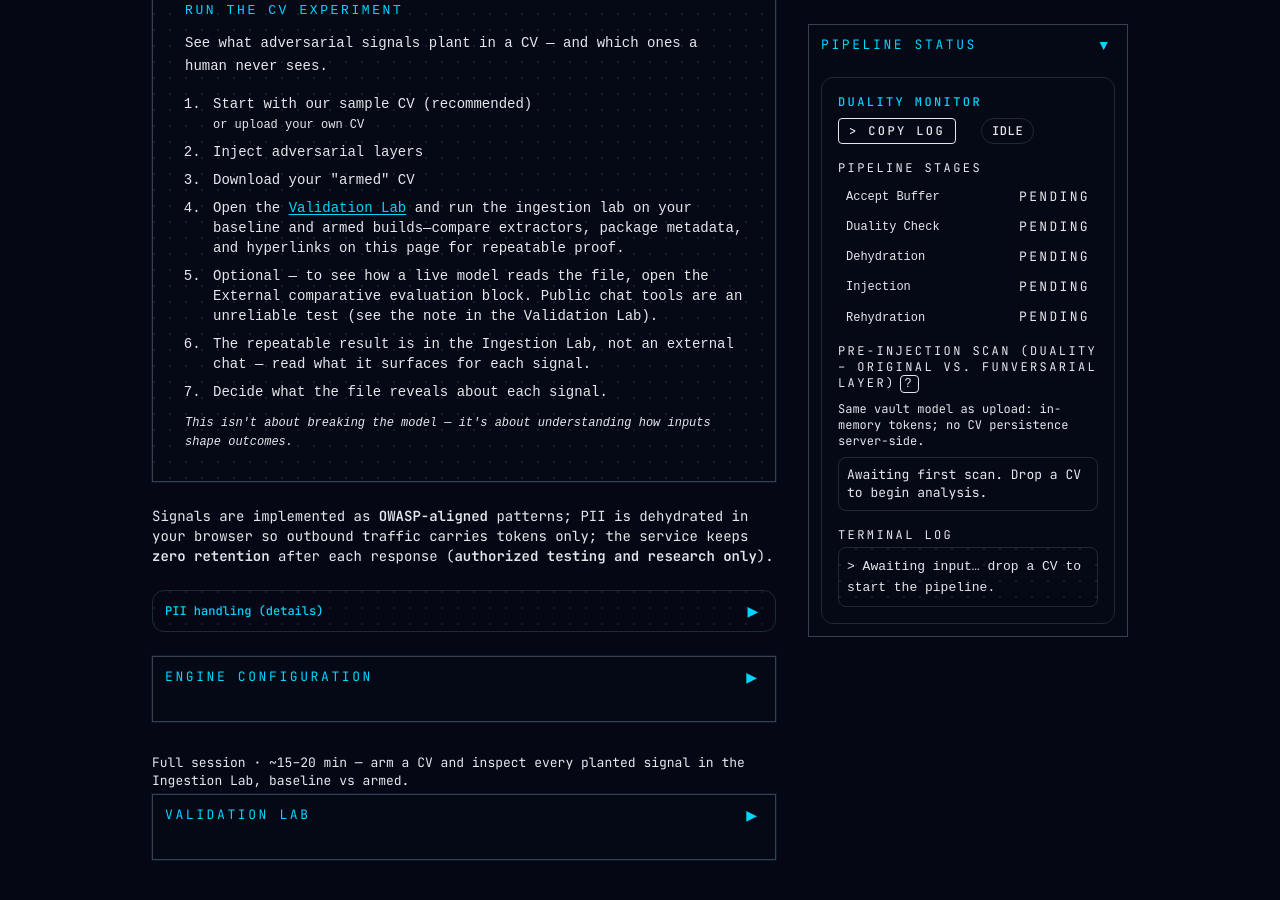
it: Home page › intro and resources nav › renders Engine Configuration section fold collapsed by default; egg config when expanded
This screenshot has width=1280, height=900.
(page scrolled)
Click the button "Engine Configuration ▶" at (269, 676), box [153,657,775,697]
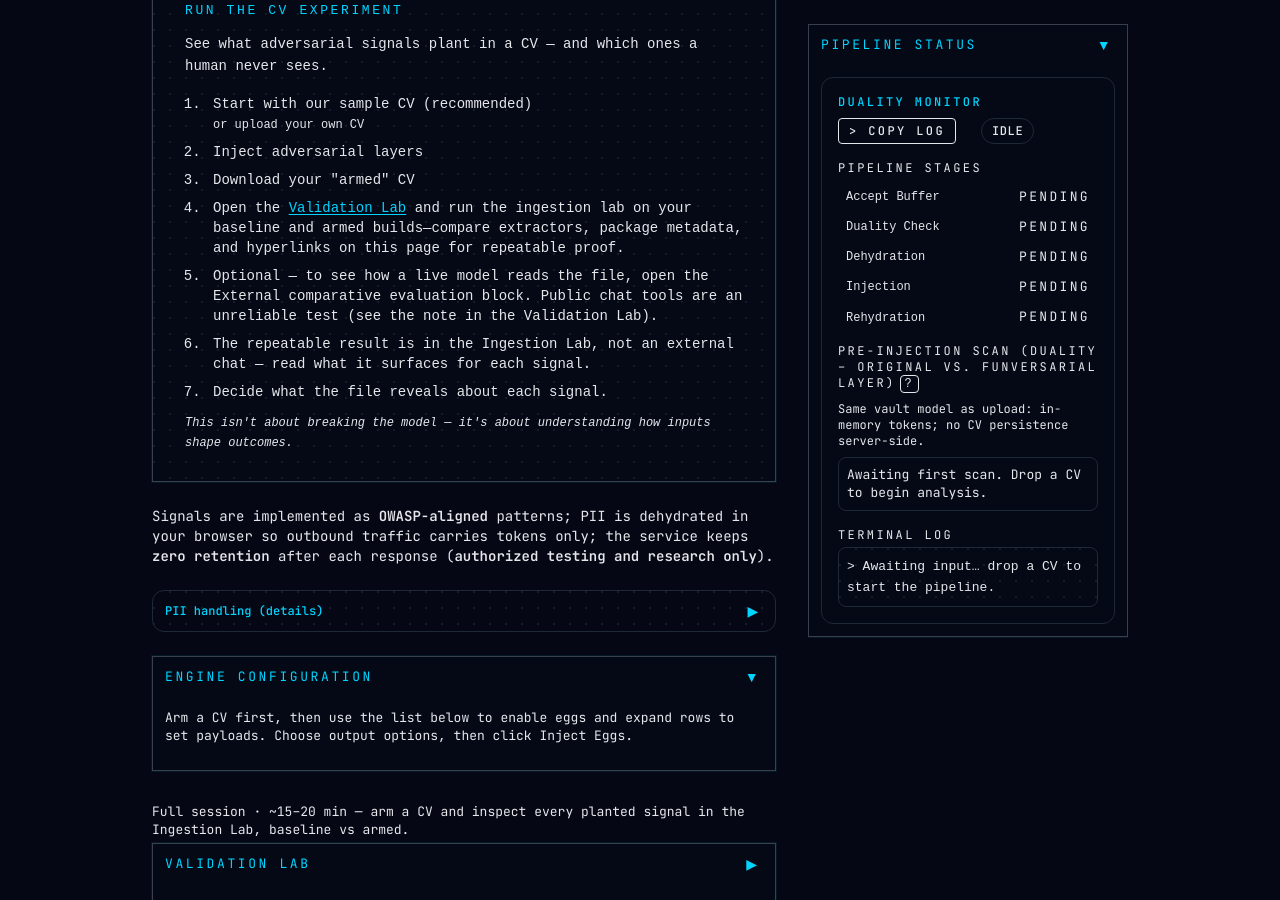
Expected: the text "Engine Configuration" is shown, [165,668,373,686]
Result: the text "Arm a CV first, then use the list below to enable eggs and expand rows to set payloads" is shown at [165,709,734,744]
